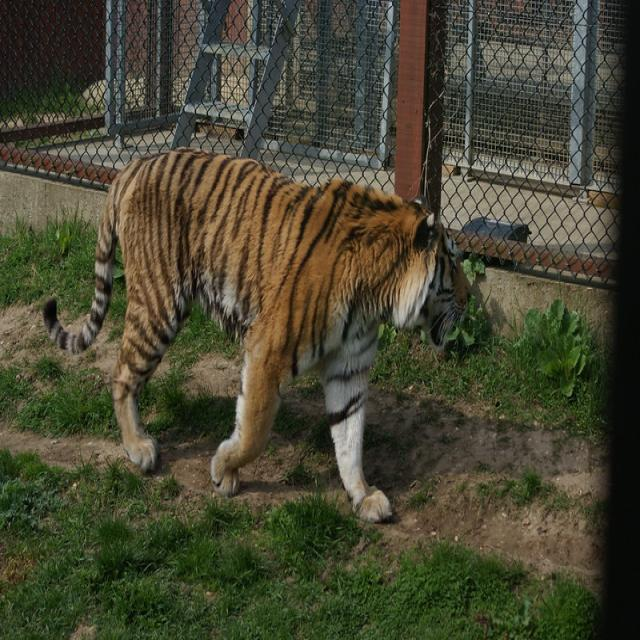Tiger: (40, 145, 473, 520)
